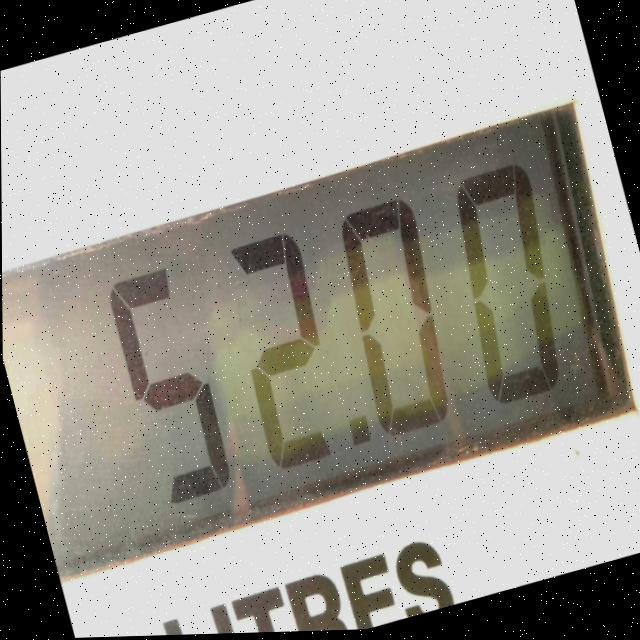.: (320, 386, 387, 484)
0: (424, 142, 593, 429), (309, 186, 482, 460)
2: (199, 214, 357, 510)
5: (73, 242, 258, 547)
